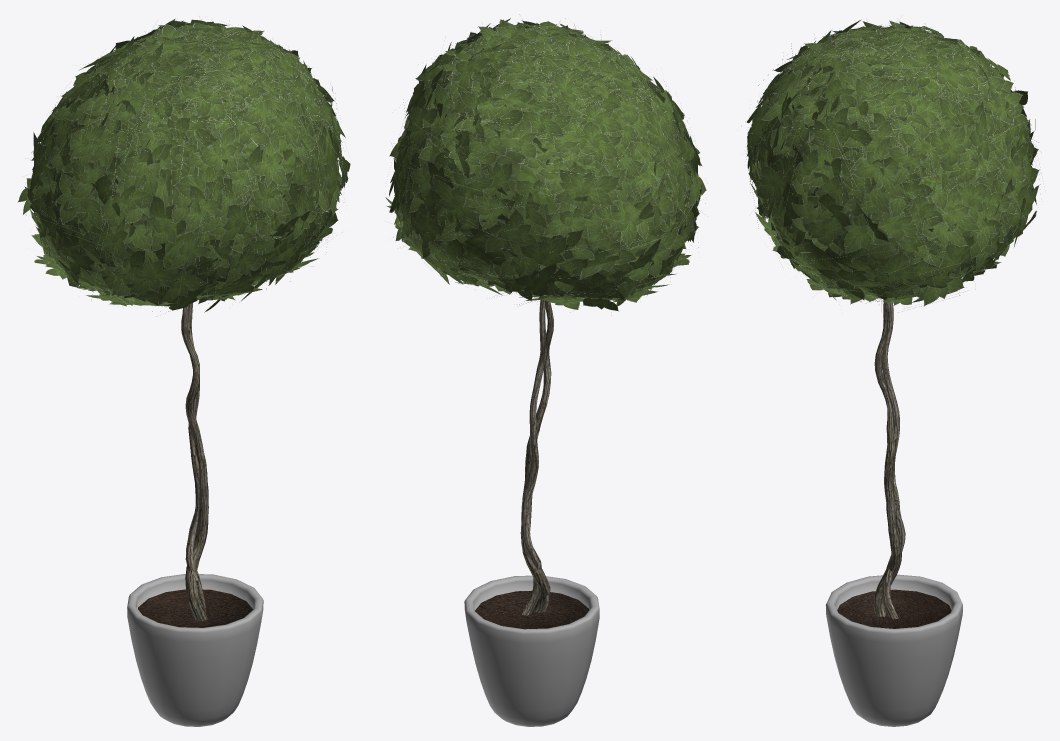
The model's file is tree.FBX.
3 views of the same model, side by side, from view 1: azimuth 30°, elevation 25°; view 2: azimuth 150°, elevation 25°; view 3: azimuth 270°, elevation 25° (orthographic).
Visible parts, largest first — view 1: tree; view 2: tree; view 3: tree.
Part boxes in pixels (bbox=[...]): tree: bbox=[17, 16, 350, 726]; tree: bbox=[385, 14, 706, 726]; tree: bbox=[741, 19, 1044, 726].
Size of the model in its own units: 79.78 by 177 by 73.18.
Materials: 1 (1 with a texture image).
